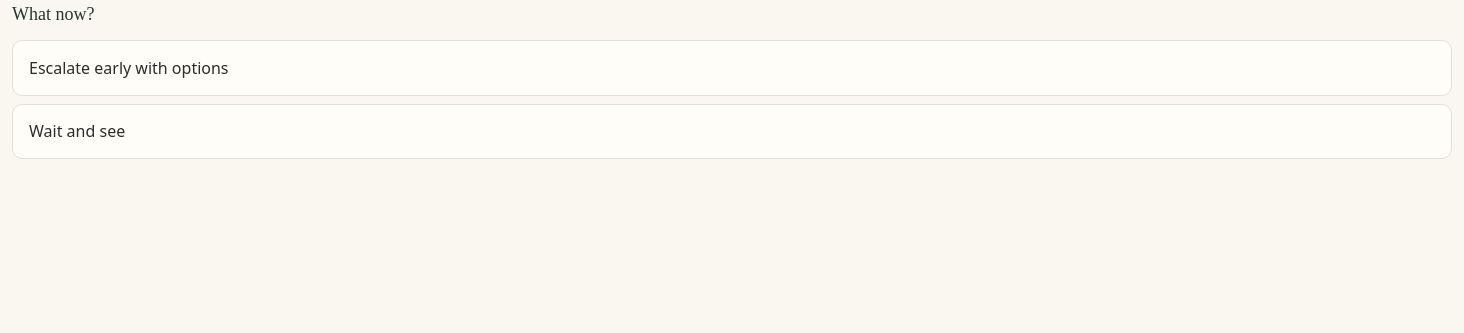
Test: knowledge-check feedback and retry › gives explanatory feedback and consequence, reports the score, and allows a retry in practice
The image size is (1464, 333).
Step 1. Click the button "Wait and see" → (77, 131), box [12,104,1452,159]
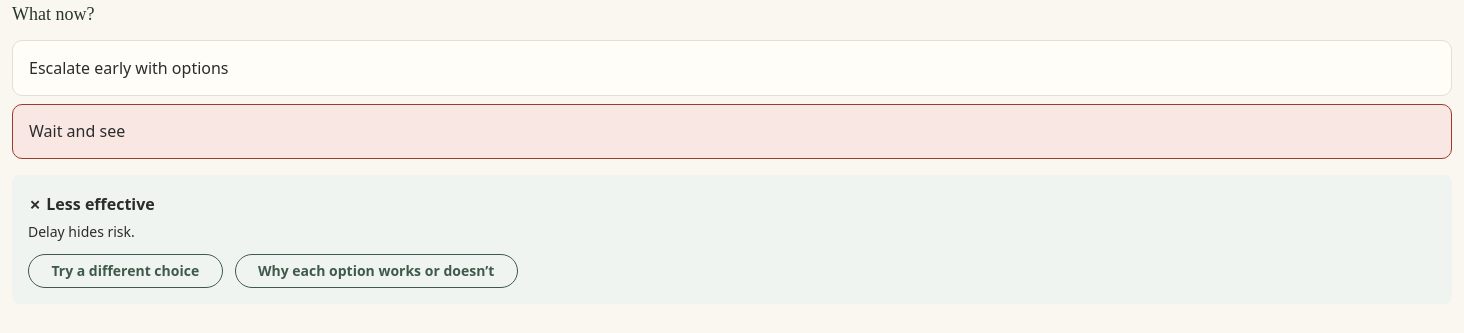
expect the text "Delay hides risk." is shown: met, box [28,222,135,240]
Step 2. Click the button "Try a different choice" → (125, 270), box [28,254,223,288]
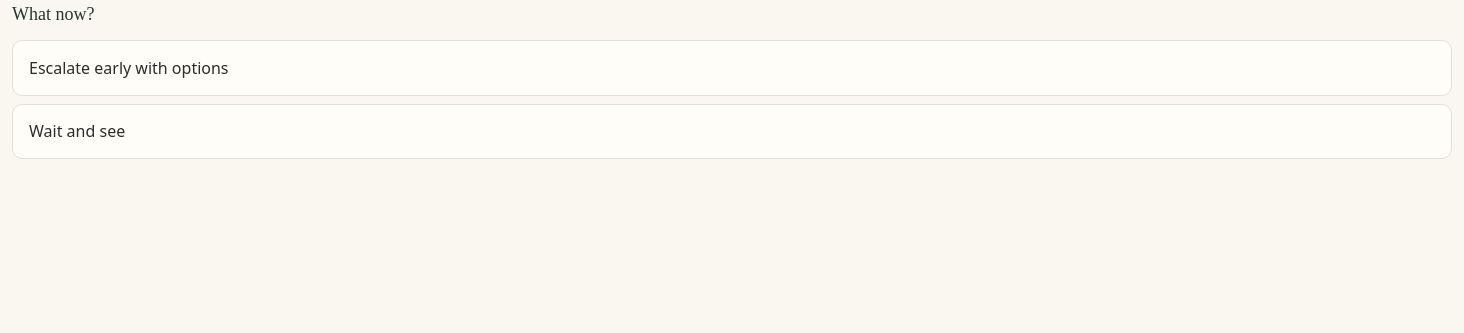
Step 3. Click the button "Escalate early with options" → (129, 68), box [12,40,1452,96]
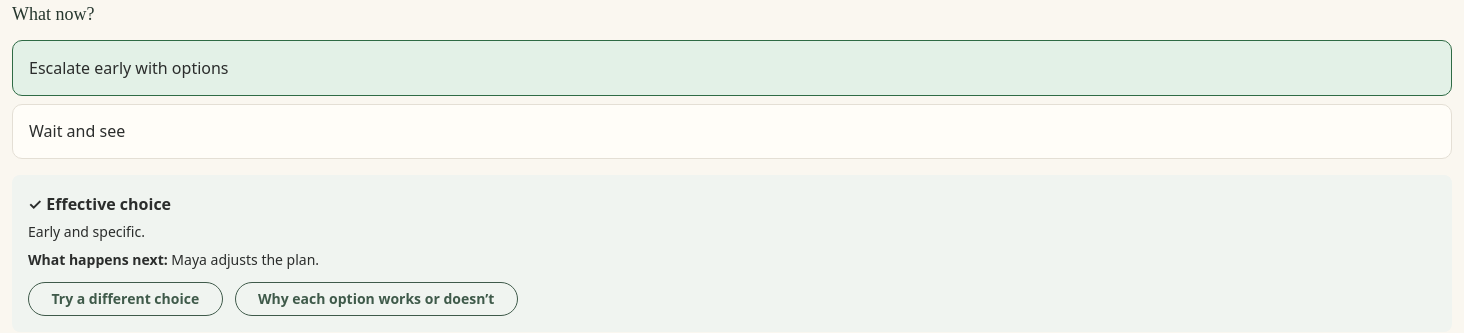
expect the text "Maya adjusts the plan." is shown: met, box [171,250,319,268]
